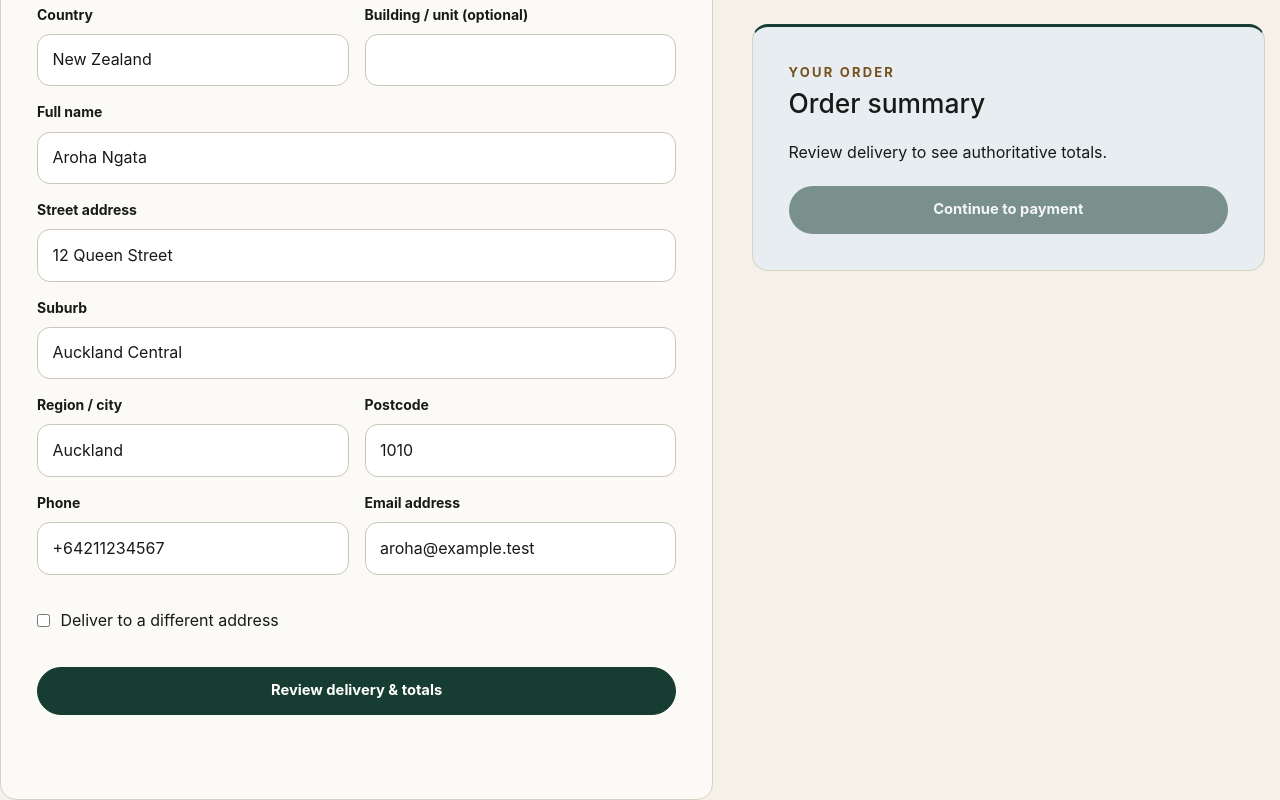
CheckoutView › inherits the cart delivery choice without asking the customer to select it again
(page scrolled)
Click the button "Review delivery & totals" at [357, 691], box [37,667,676,715]
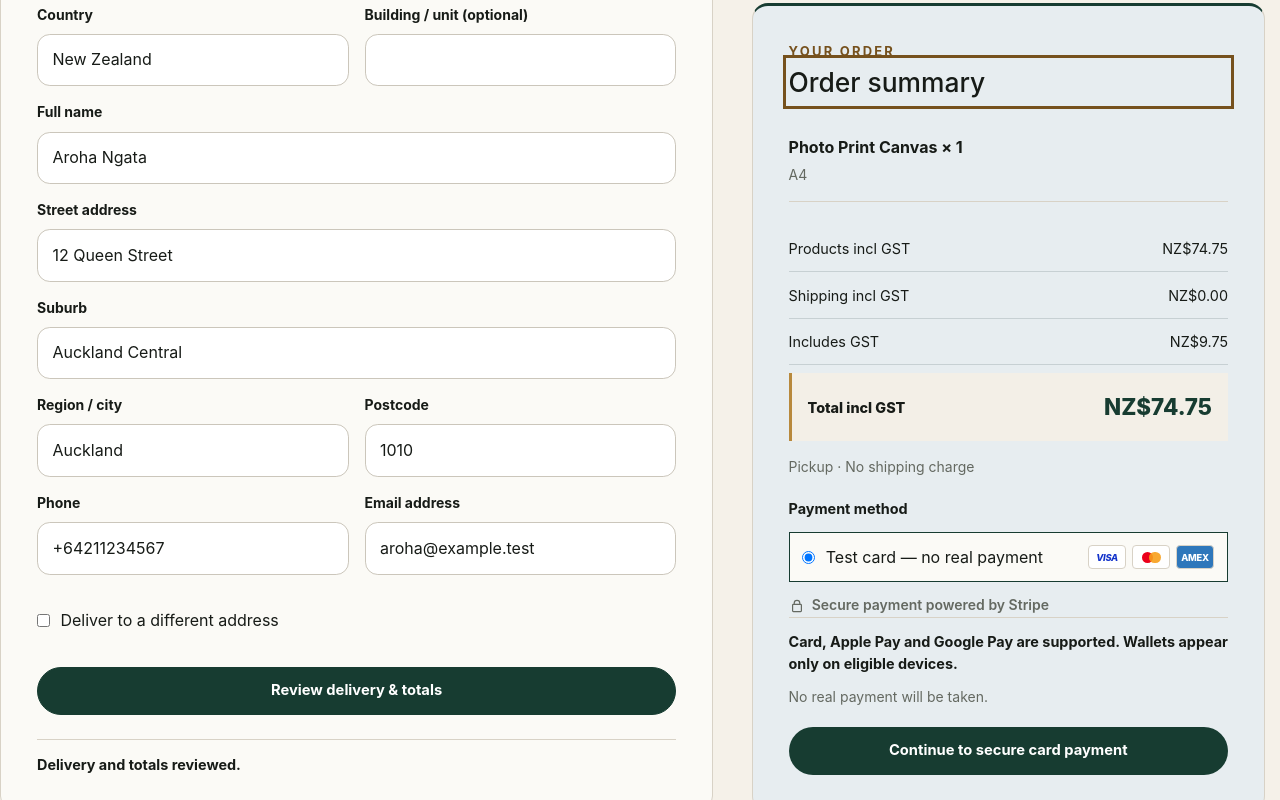
Expected: the text "Pickup · No shipping charge" is shown, [788,458,974,475]
